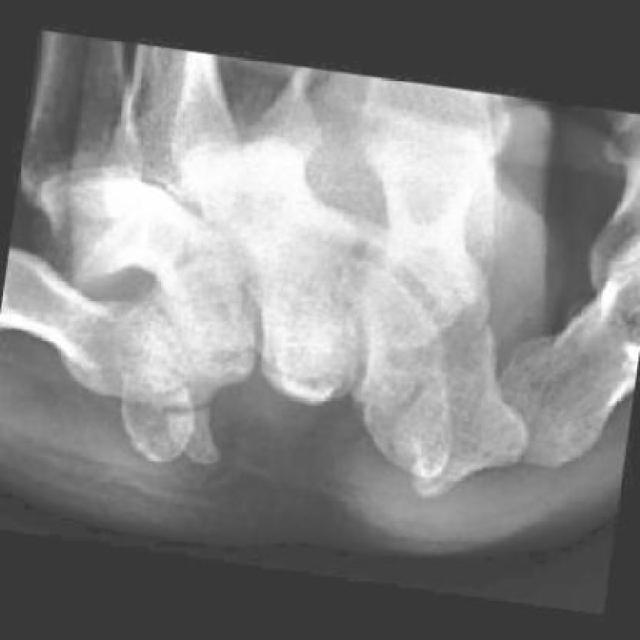Fracture: (152, 381, 214, 437)
